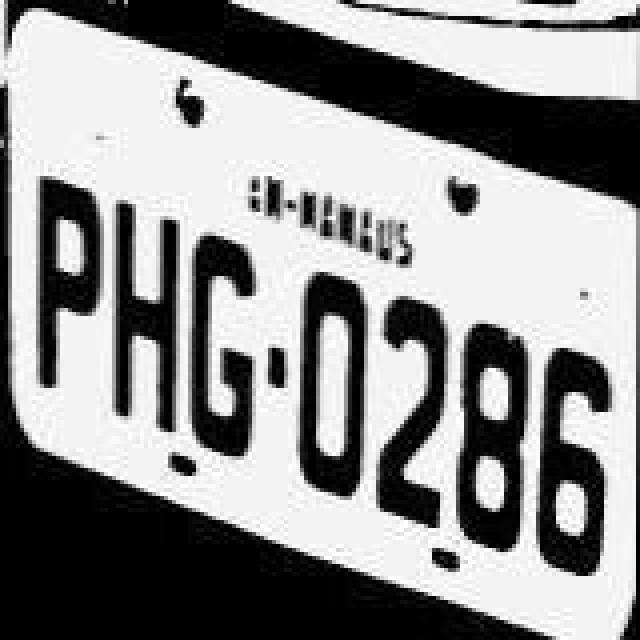2: (378, 292, 450, 540)
6: (540, 344, 624, 576)
8: (456, 312, 532, 560)
G: (186, 232, 258, 472)
H: (102, 198, 182, 434)
O: (296, 270, 372, 506)
P: (22, 176, 102, 400)
